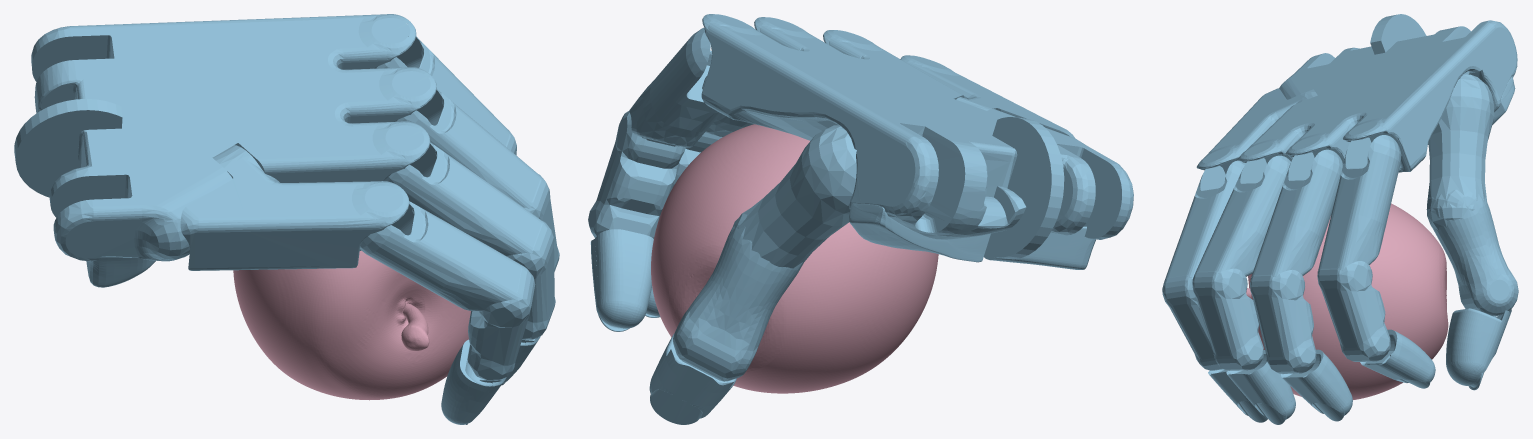
3 views of the same model, side by side, from view 1: azimuth 30°, elevation 25°; view 2: azimuth 150°, elevation 25°; view 3: azimuth 270°, elevation 25° (orthographic). The views are drawn at different scales.
Parts seen in each view (by area): view 1: world; view 2: world; view 3: world.
Boxes of the visible parts, x1,y1,x2,y2 form: world: (14, 14, 559, 424); world: (588, 14, 1133, 424); world: (1162, 14, 1518, 424).
Size of the model in its own units: 0.1636 by 0.1162 by 0.1274.
